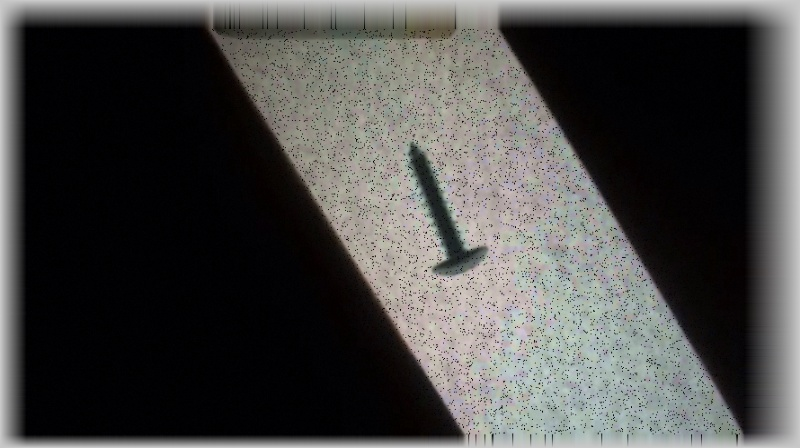S003: (406, 142, 490, 278)
